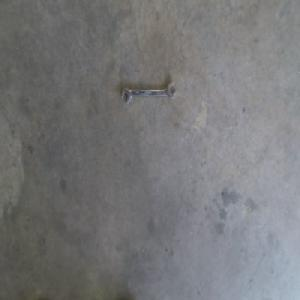Wrench: (121, 81, 177, 105)
